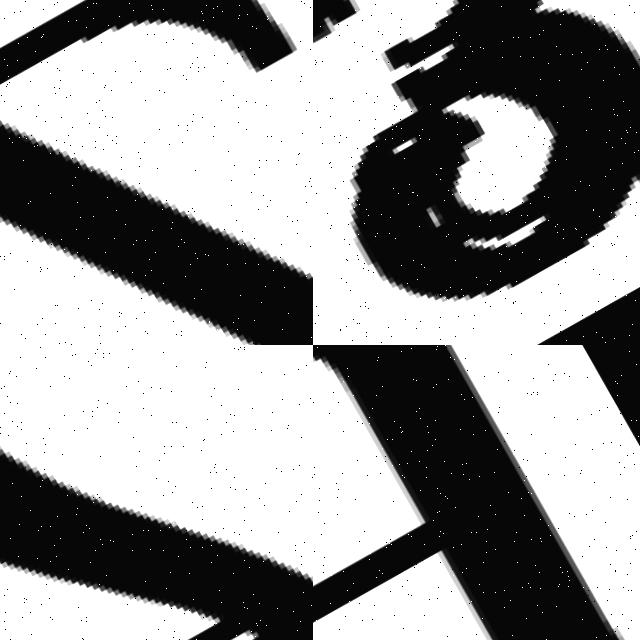3: (313, 0, 640, 345)
7: (0, 345, 313, 640)
H: (313, 345, 622, 640)
Z: (0, 0, 313, 345)
